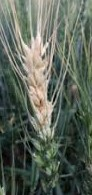Wheat scab: (20, 42, 65, 178)
